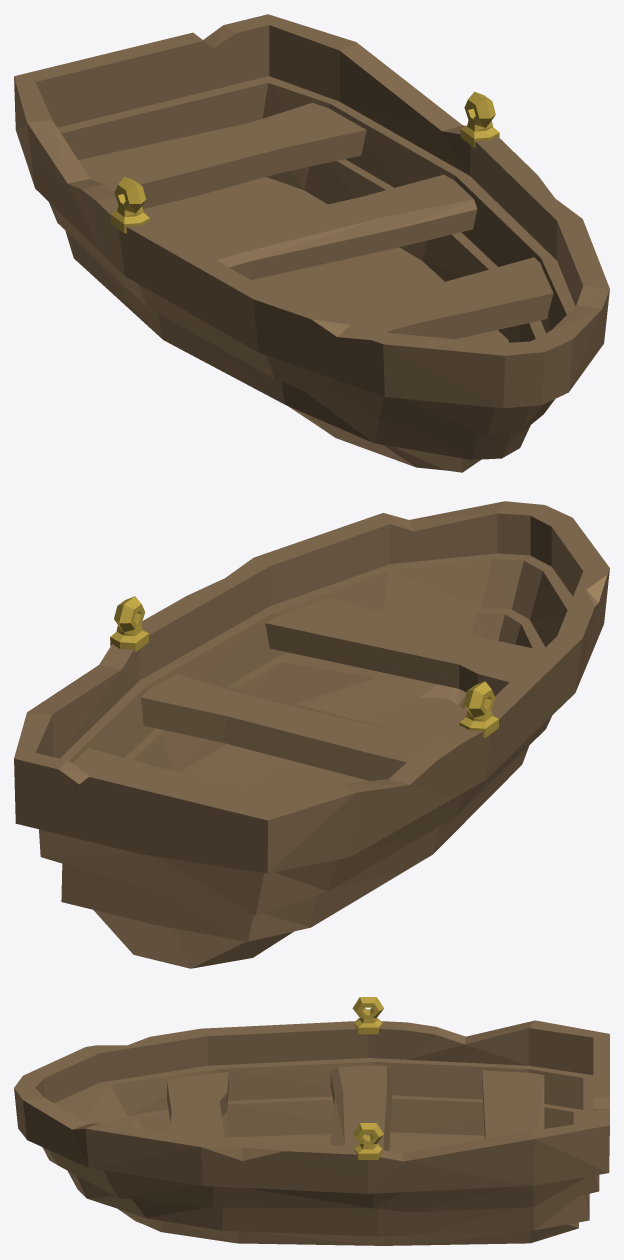
Rendered from SM_Prop_Rowboat_01.gltf.
3 renders of one model, top to bottom at view 1: azimuth 30°, elevation 25°; view 2: azimuth 150°, elevation 25°; view 3: azimuth 270°, elevation 25°, orthographic. The views are drawn at different scales.
Visible parts, largest first — view 1: SM_Prop_Rowboat_01; view 2: SM_Prop_Rowboat_01; view 3: SM_Prop_Rowboat_01.
Part boxes in pixels (x1,y1,x2,y2): SM_Prop_Rowboat_01: [14, 14, 609, 472]; SM_Prop_Rowboat_01: [14, 501, 609, 968]; SM_Prop_Rowboat_01: [14, 997, 609, 1245].
Size of the model in its own units: 2.24 by 1.26 by 4.18.
Materials: 1 (1 with a texture image).
